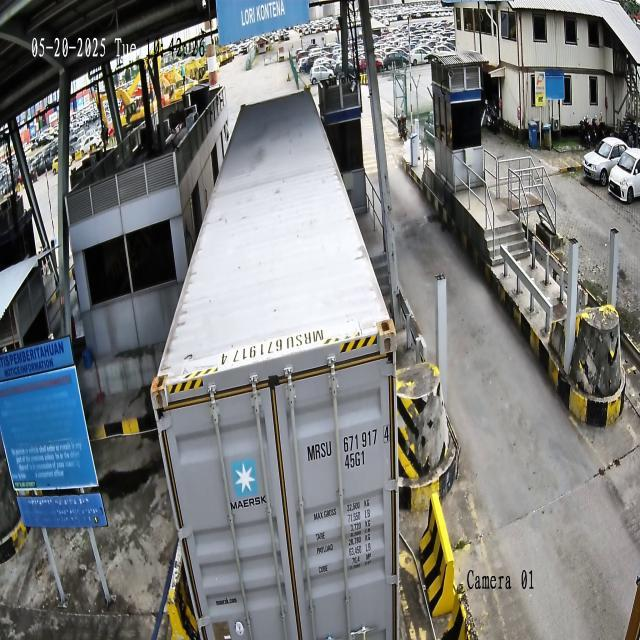ISO: (344, 449, 366, 472)
container_number: (307, 423, 390, 465)
